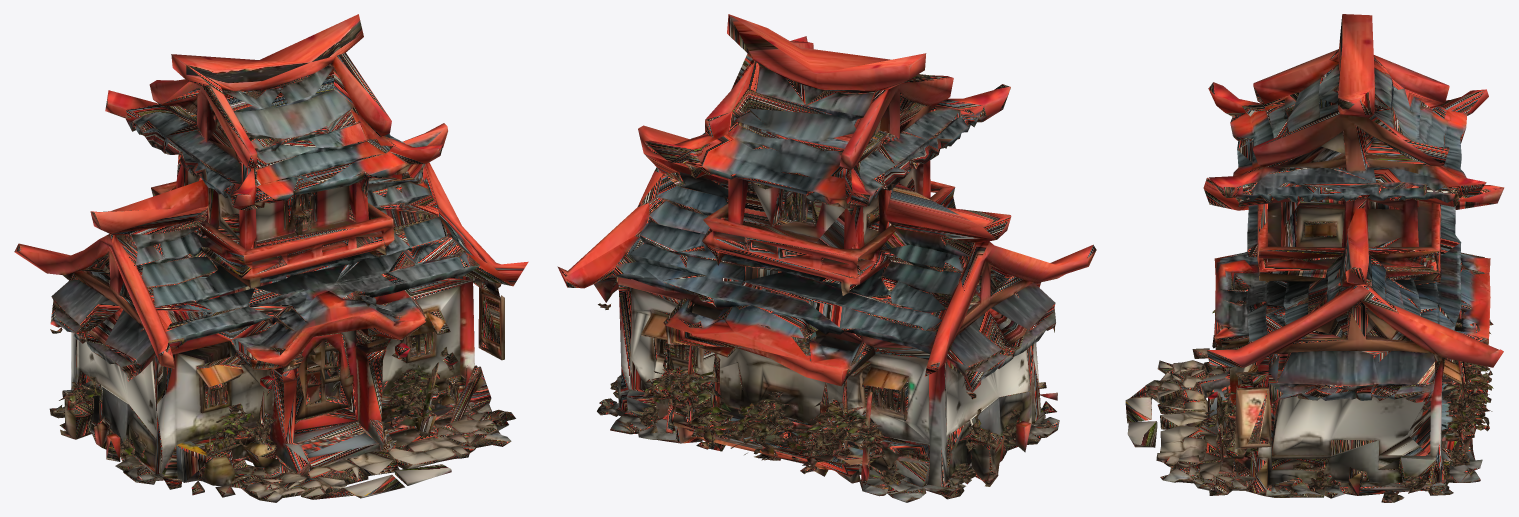
Rendered from bq_teahouse.mid.glb.
3 views of the same model, side by side, from view 1: azimuth 30°, elevation 25°; view 2: azimuth 150°, elevation 25°; view 3: azimuth 270°, elevation 25° (orthographic). The views are drawn at different scales.
Size of the model in its own units: 1.89 by 1.78 by 1.7.
Materials: 1 (1 with a texture image).
